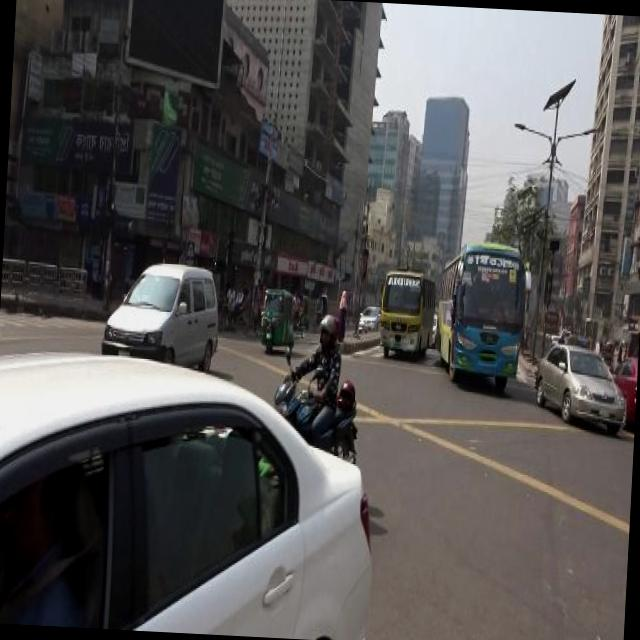bus: (432, 236, 530, 394), (378, 270, 438, 358)
car: (0, 342, 390, 638), (530, 338, 630, 432), (606, 350, 638, 434), (358, 302, 382, 336)
motorcycle: (272, 304, 369, 459), (258, 284, 298, 356), (221, 281, 254, 334), (292, 288, 308, 338), (314, 289, 331, 328)
truck: (103, 258, 225, 376)
